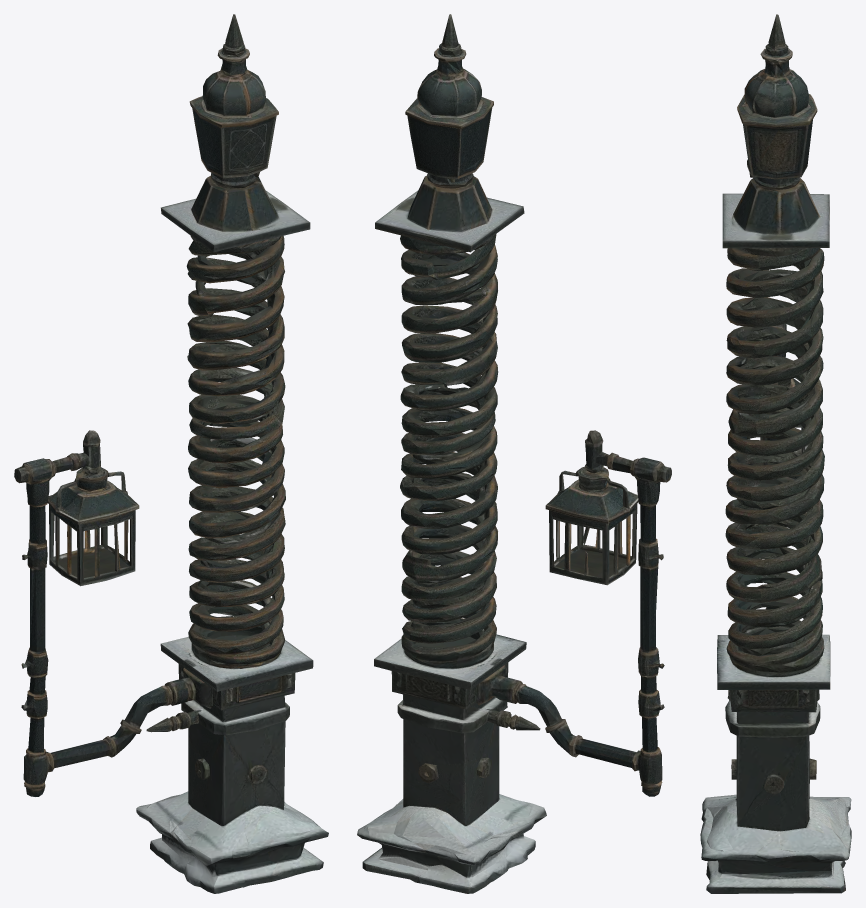
The model's file is pylon.glb.
The picture shows the model from 3 angles, left to right: view 1: azimuth 30°, elevation 25°; view 2: azimuth 150°, elevation 25°; view 3: azimuth 270°, elevation 25°; orthographic projection.
Size of the model in its own units: 0.6535 by 1.9 by 0.3059.
1 material, 1 textured.
